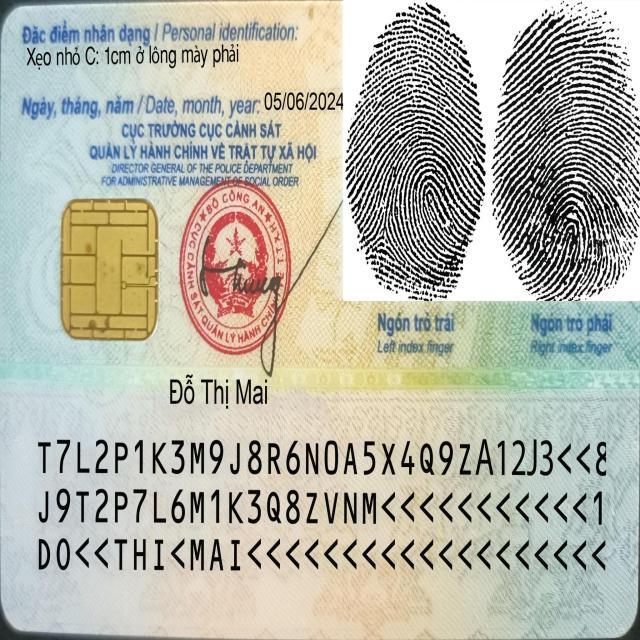features: (23, 44, 248, 72)
finger_print: (491, 4, 640, 357), (343, 3, 488, 360)
issue_date: (262, 86, 345, 117)
